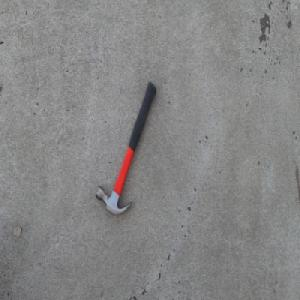Hammer: (95, 80, 157, 215)
